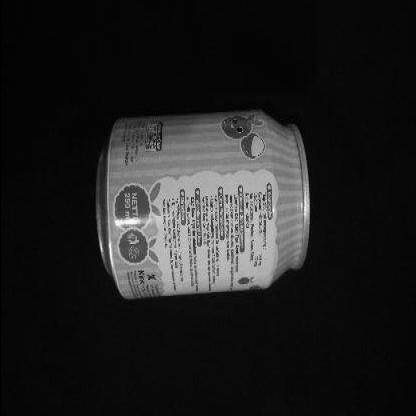alumunium_can: (91, 107, 313, 304)
